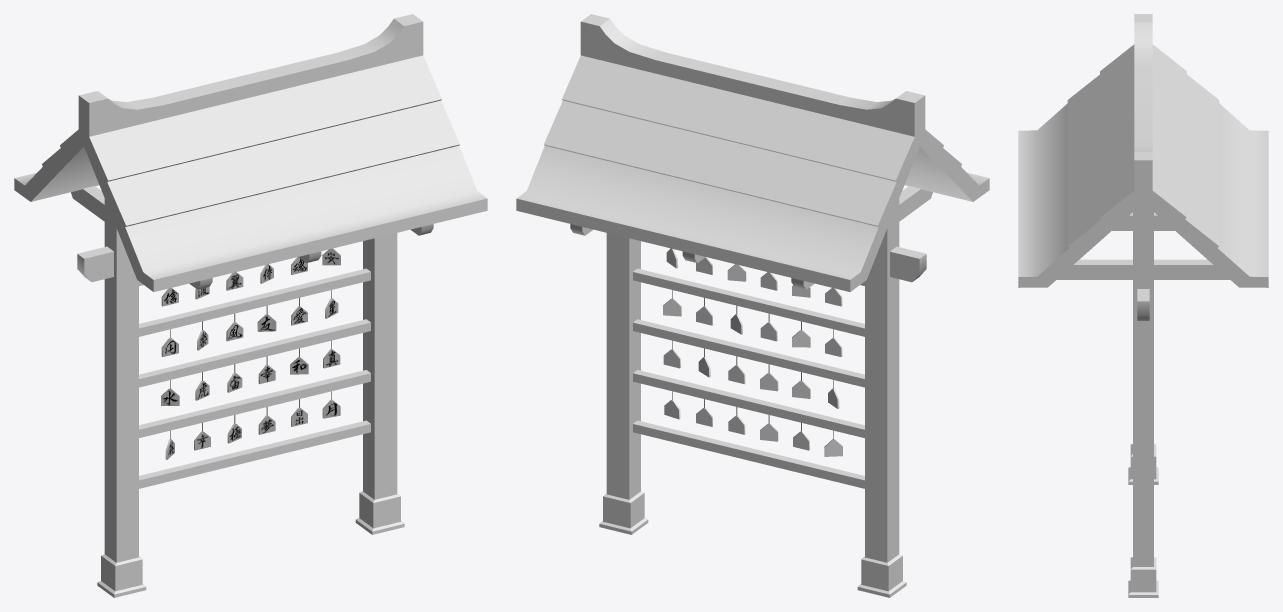
The model's file is Ema_1_stand.fbx.
3 views of the same model, side by side, from view 1: azimuth 30°, elevation 25°; view 2: azimuth 150°, elevation 25°; view 3: azimuth 270°, elevation 25° (orthographic). The views are drawn at different scales.
Parts seen in each view (by area): view 1: Plane.044; view 2: Plane.044; view 3: Plane.044.
Boxes of the visible parts, bbox=[...] form: Plane.044: bbox=[14, 14, 487, 597]; Plane.044: bbox=[516, 14, 989, 597]; Plane.044: bbox=[1018, 14, 1268, 597].
Size of the model in its own units: 210 by 295 by 150.
